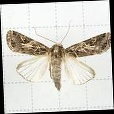Spodoptera litura: (6, 21, 110, 91)
